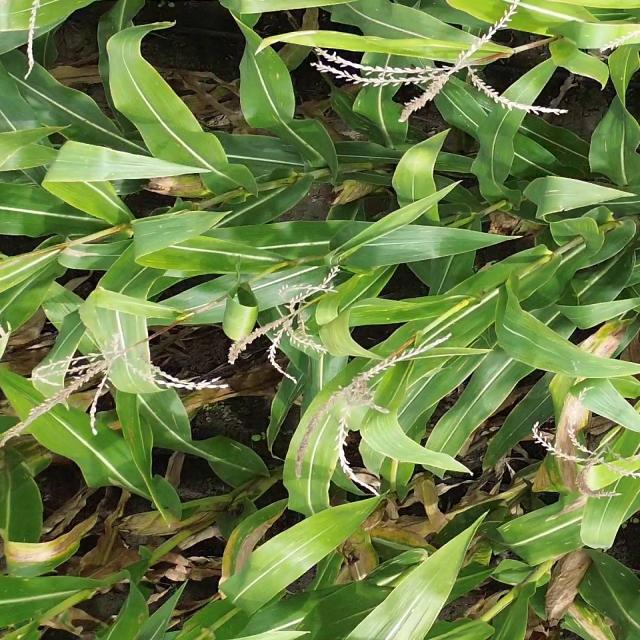gray-leaf-spot: (474, 487, 640, 600), (242, 68, 396, 144), (117, 404, 259, 486), (116, 194, 226, 287), (416, 67, 524, 158), (371, 360, 469, 446)
northern-leaf-blight: (520, 314, 634, 517), (166, 491, 298, 596), (0, 504, 107, 597)
